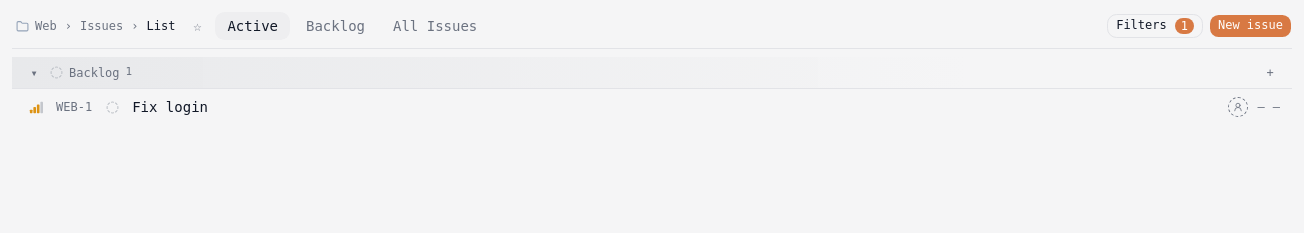
Test: project issues list view › a failed status change shows the error
expect the text "WEB-1" is shown: met, box left=56, top=99, right=92, bottom=115
Click the button named "status for WEB-1".
click(112, 107)  # box left=100, top=95, right=124, bottom=119
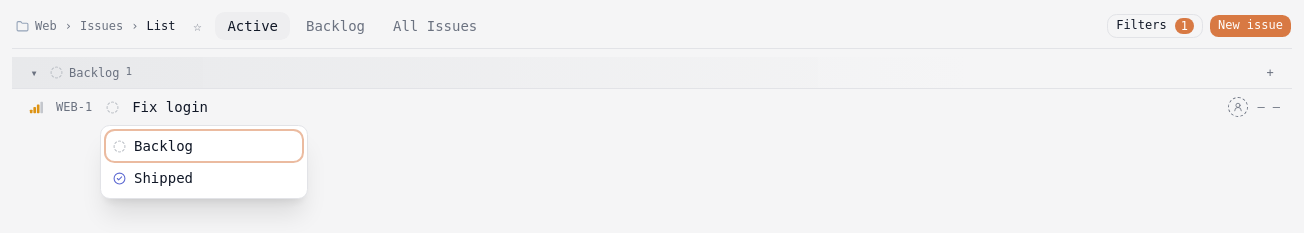
Click the menu item "Shipped".
click(204, 178)  # box left=105, top=162, right=303, bottom=194
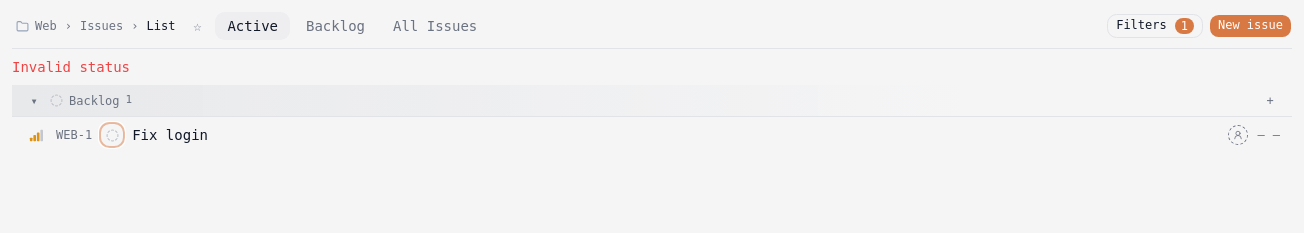
expect the text "Invalid status" is shown: met, box left=12, top=59, right=130, bottom=75
